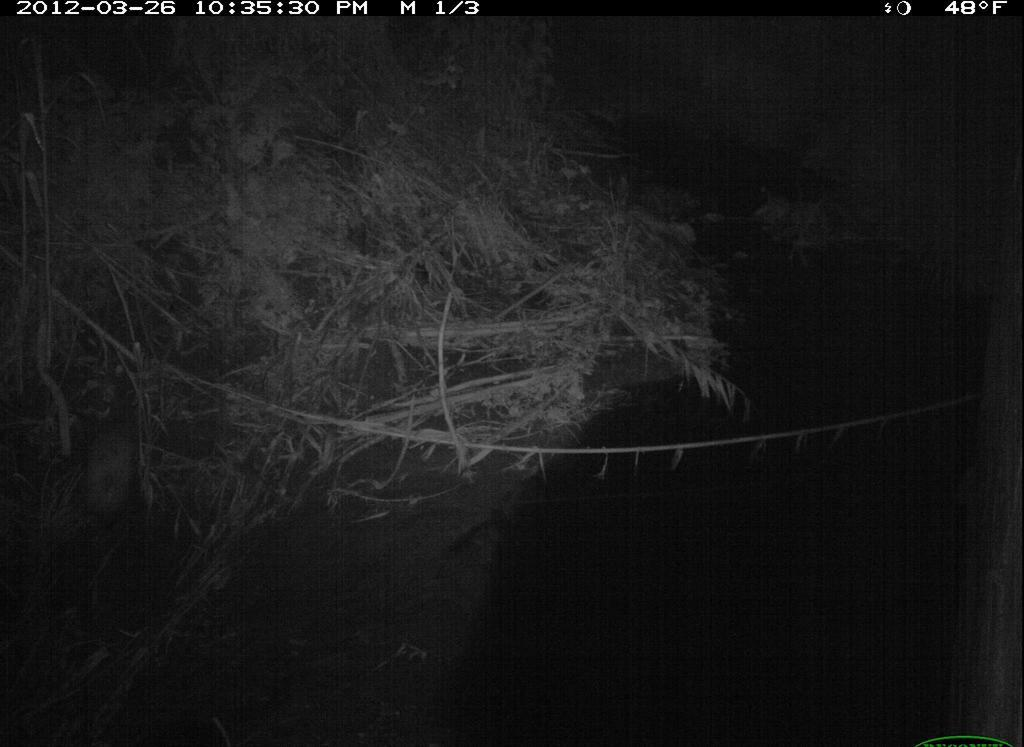opossum: (70, 383, 172, 533)
